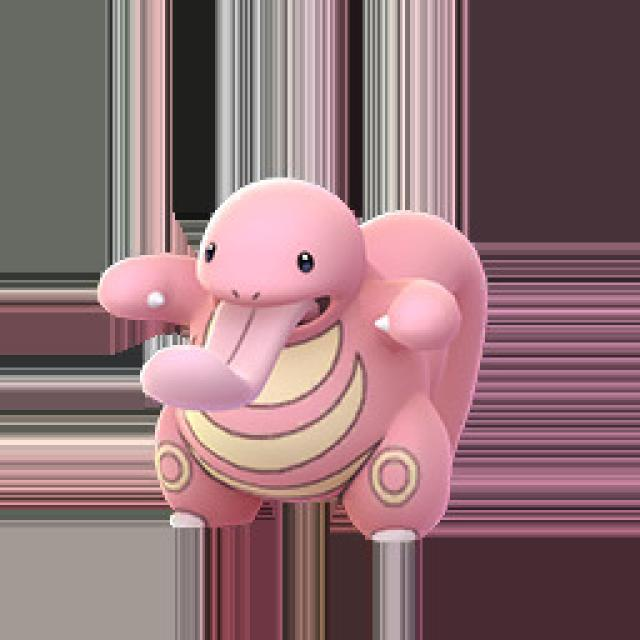Lickitung: (98, 180, 492, 528)
